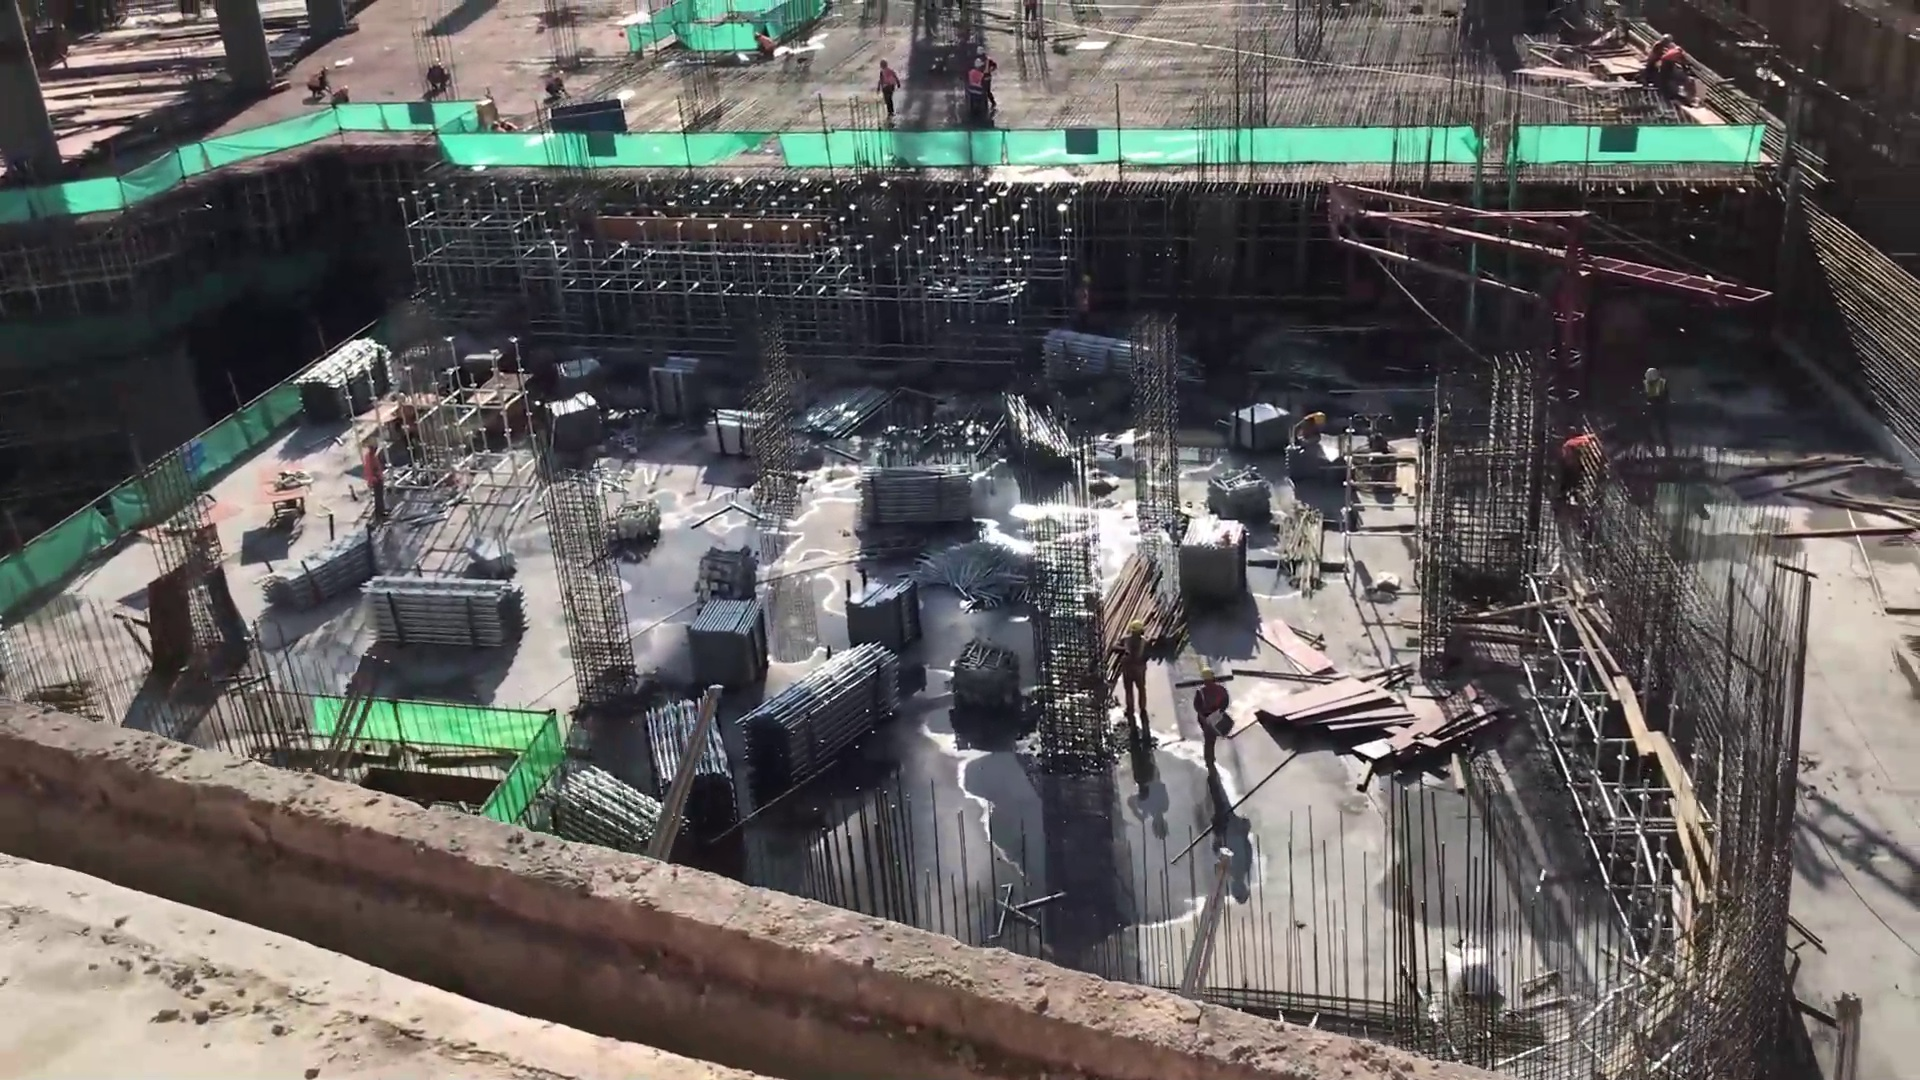board: (1255, 623, 1449, 786)
helmet: (1636, 363, 1670, 389), (1118, 616, 1143, 639), (1302, 411, 1327, 433), (357, 430, 377, 453), (1198, 666, 1216, 684)
person: (1107, 617, 1156, 740), (1189, 665, 1241, 780), (1633, 363, 1676, 441), (356, 434, 392, 519), (1658, 44, 1697, 95), (1285, 407, 1329, 452), (873, 56, 900, 116), (968, 56, 992, 112), (1646, 30, 1676, 73), (541, 69, 575, 103), (422, 55, 449, 96), (750, 29, 783, 61), (302, 64, 332, 99), (325, 83, 353, 107)
scaffold: (741, 648, 910, 759), (353, 568, 511, 650), (634, 705, 729, 810), (279, 340, 395, 423), (855, 453, 980, 530), (258, 521, 359, 610), (674, 599, 765, 692), (837, 568, 925, 639), (634, 344, 703, 417), (596, 490, 666, 560), (692, 538, 760, 604), (698, 403, 765, 469), (544, 388, 608, 456)
vest: (1117, 640, 1147, 686), (359, 451, 388, 487), (1195, 688, 1226, 718)
wood: (1556, 576, 1721, 887), (1751, 443, 1909, 569), (1270, 503, 1340, 594), (1110, 563, 1177, 649)
